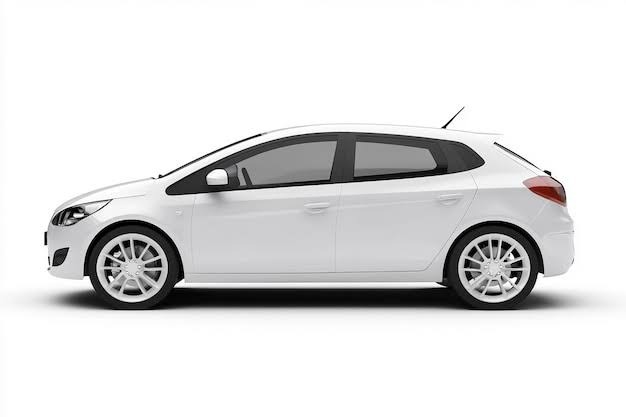car: (36, 122, 586, 303)
